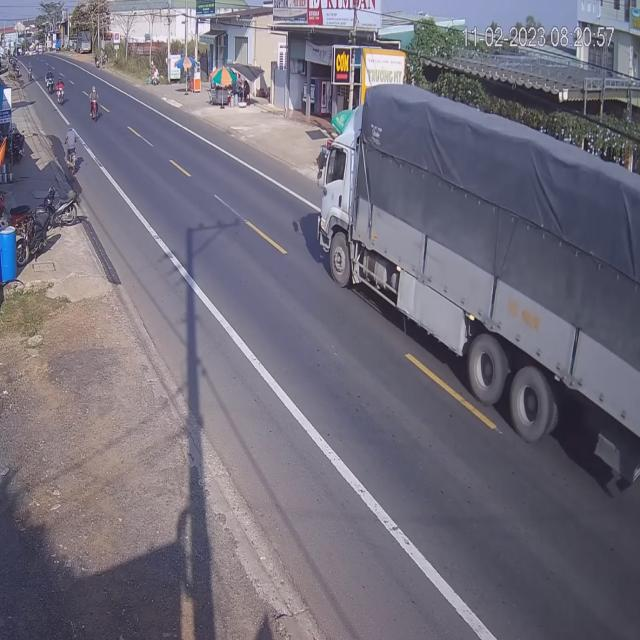motorbike: (91, 85, 104, 124), (58, 75, 67, 105)
truck: (311, 82, 640, 491)
